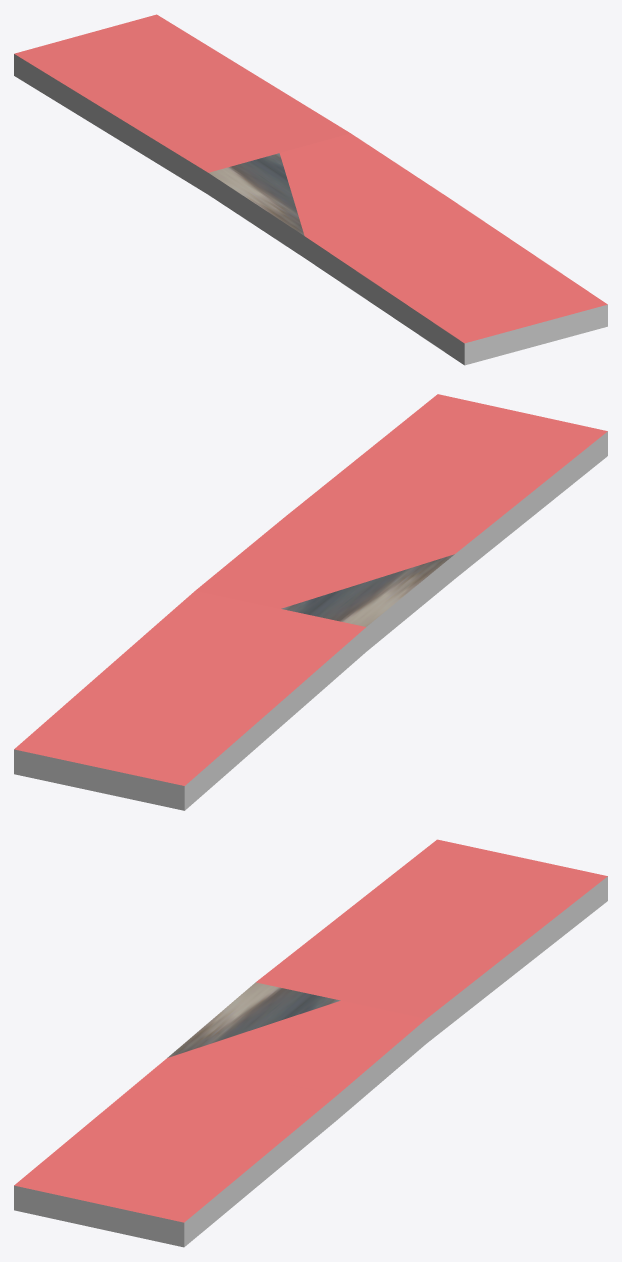
File: DEBW_B010000BQfV.gltf
3 views of the same model, one above another, from view 1: azimuth 30°, elevation 25°; view 2: azimuth 150°, elevation 25°; view 3: azimuth 330°, elevation 25° (orthographic). The views are drawn at different scales.
Parts seen in each view (by area): view 1: Z_UP; view 2: Z_UP; view 3: Z_UP.
Part boxes in pixels (x1=…): Z_UP: x1=14, y1=14, x2=607, y2=365; Z_UP: x1=14, y1=394, x2=607, y2=810; Z_UP: x1=14, y1=839, x2=607, y2=1247.
Bounding box in the file's own units: 8.75 × 1.33 × 34.35.
3 materials, 1 textured.
